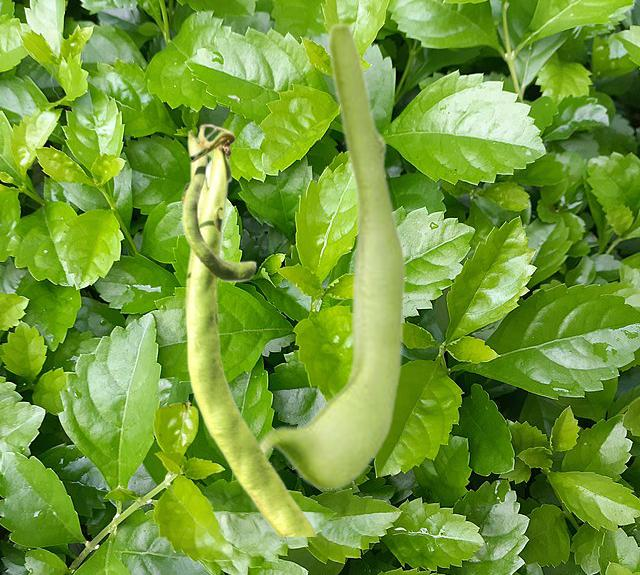french_bean: (257, 20, 405, 489), (180, 123, 316, 535)
